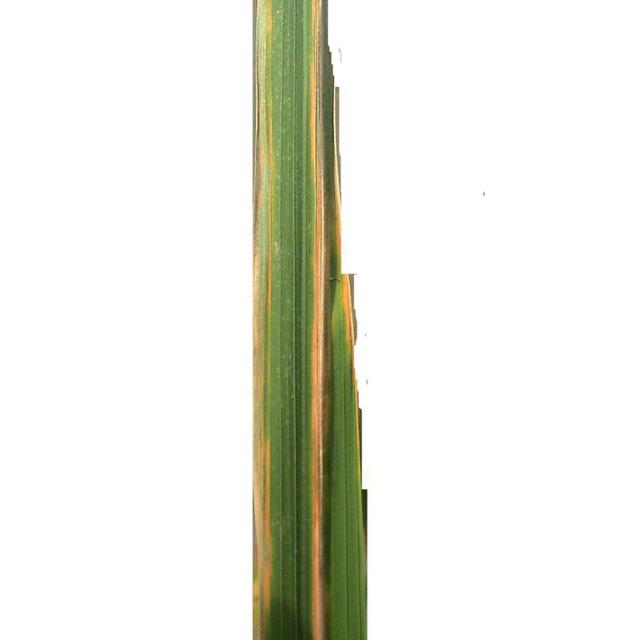Bacterial leaf blight: (249, 0, 278, 640), (311, 0, 334, 640), (338, 273, 372, 556)
